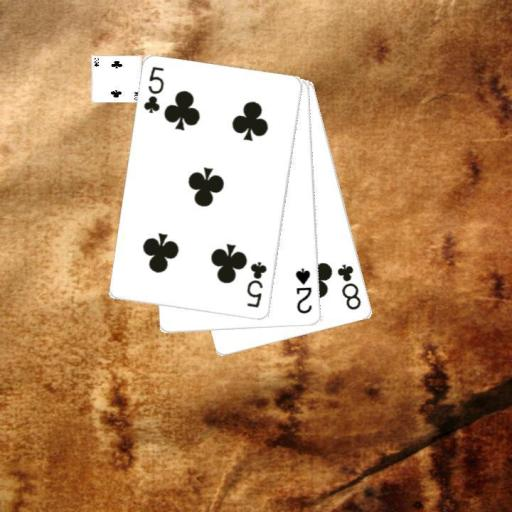2S: (293, 265, 314, 316)
5C: (244, 259, 269, 310), (141, 64, 166, 115)
8C: (335, 261, 364, 312)
